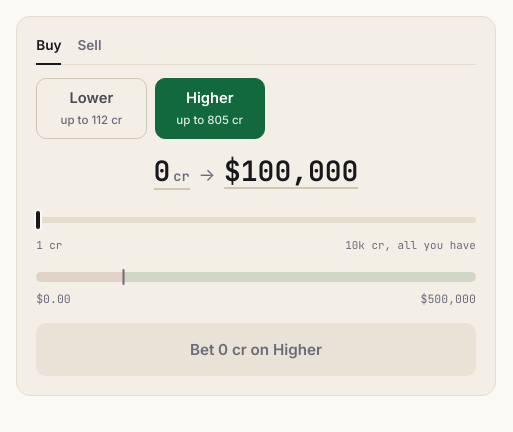
Test: the ticket opens composed › an amount arms the confirm
The width and height of the screenshot is (513, 432).
Replace the text in the field named "Credits to spend" with "40" at coordinates (162, 170), box [154,152,170,188]
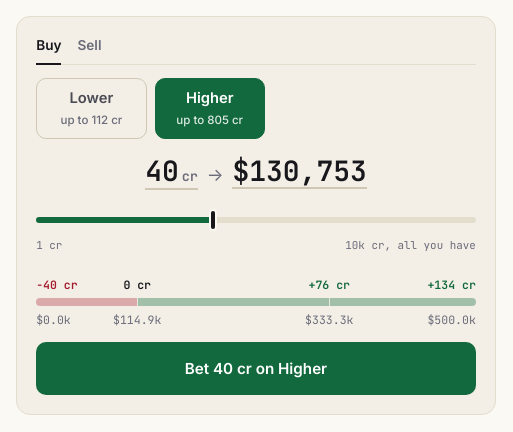
Expected: the button "Bet 40 cr on Higher" is enabled, [36,342,476,395]
